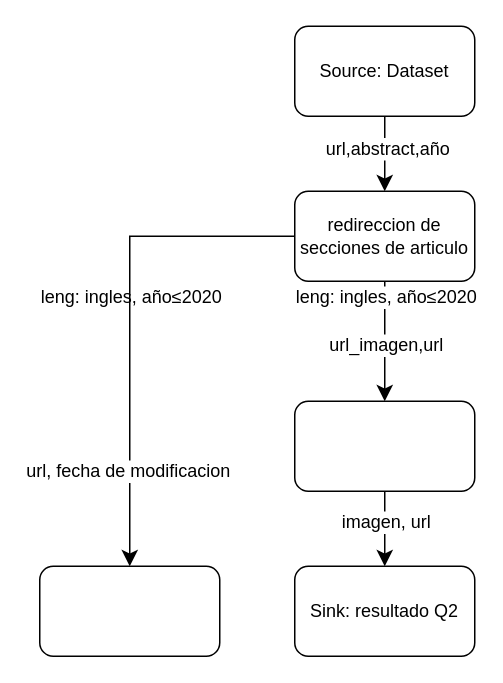
Some shapes in this 503 by 683 pixel diagram are drawn without their labels. The centre of each missing label's shape, as x and y in pixels:
Busqueda de la imagen con API: point 384,445
Sink: Resultado Q1: point 129,610
